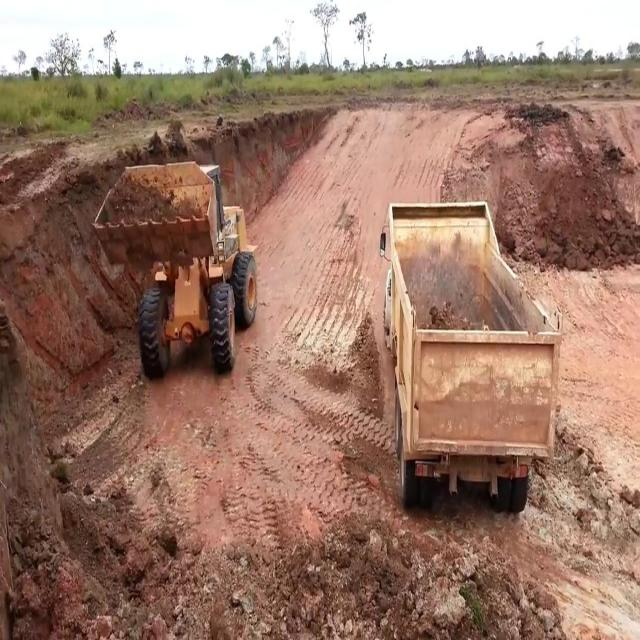Dump Truck: (379, 202, 557, 513)
Loader: (92, 160, 256, 377)
